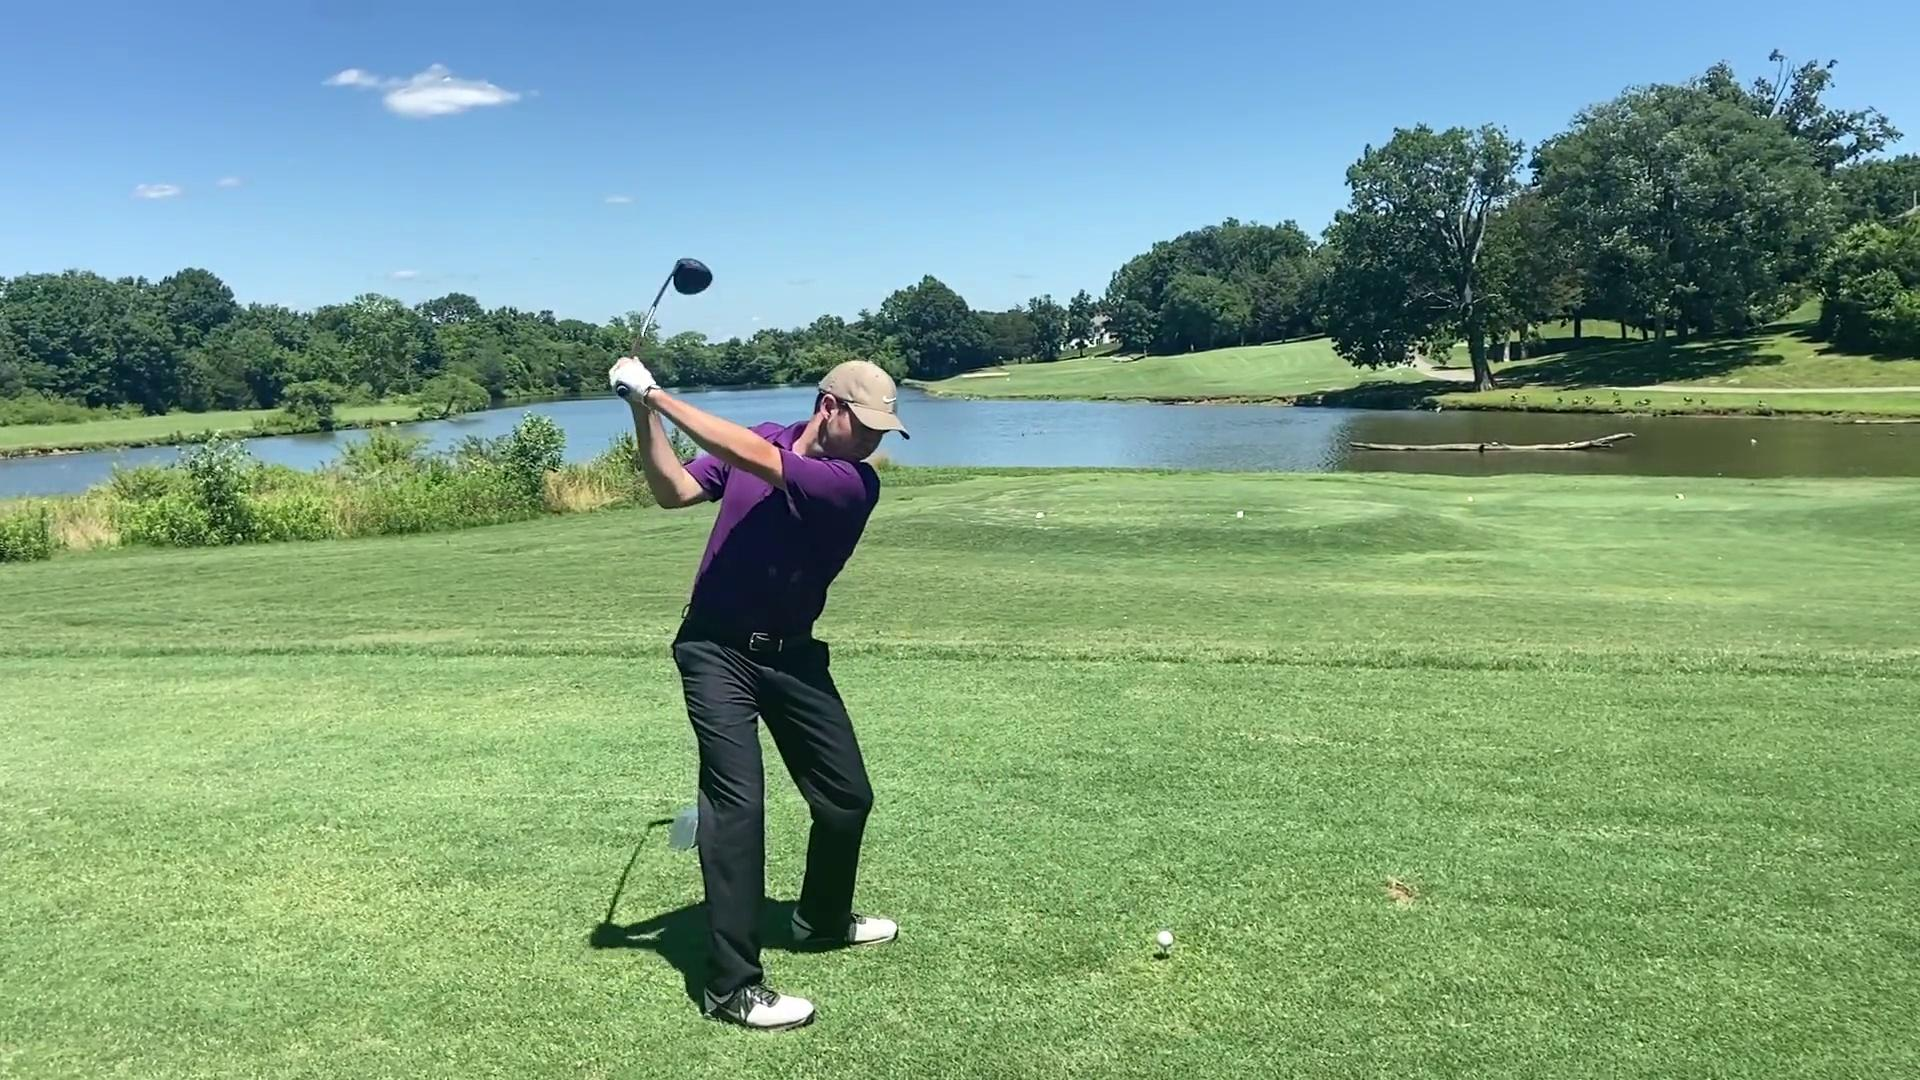ClubHead: (662, 249, 717, 305)
GolfBall: (1156, 928, 1176, 948)
